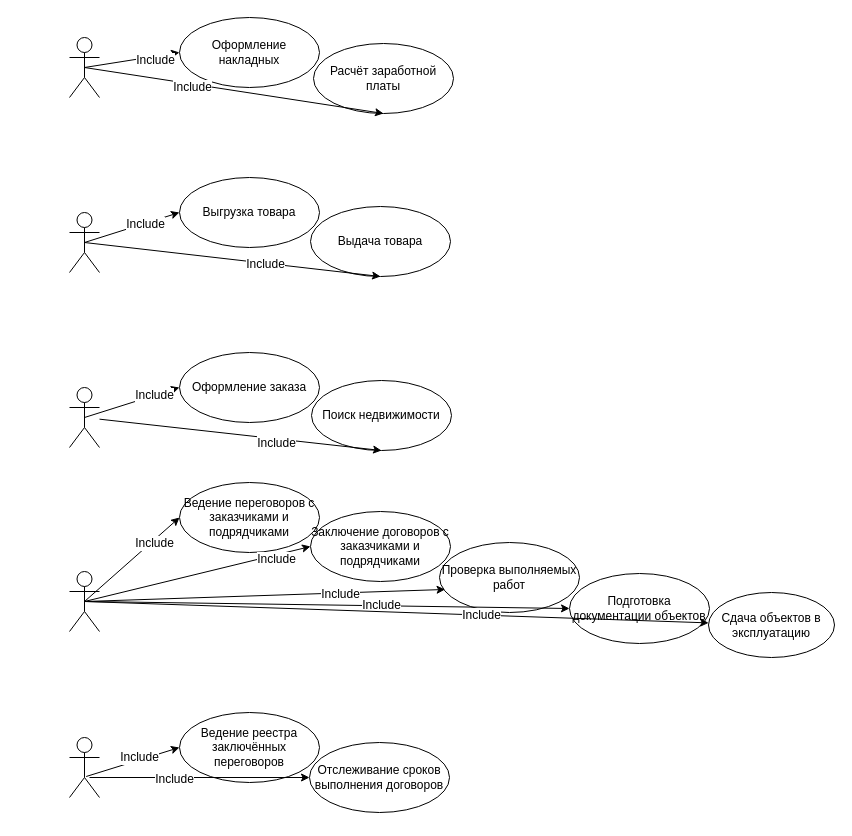
Image size: 852x836. Some labels were removed from this diagram. Each missing label, with the centre of its shape:
"Бухгалтер" belongs at (x=84, y=67).
"Директор компании" belongs at (x=84, y=601).
"Менеджер по продажам" belongs at (x=84, y=417).
"Работник склада" belongs at (x=84, y=242).
"Юрист" belongs at (x=84, y=767).
